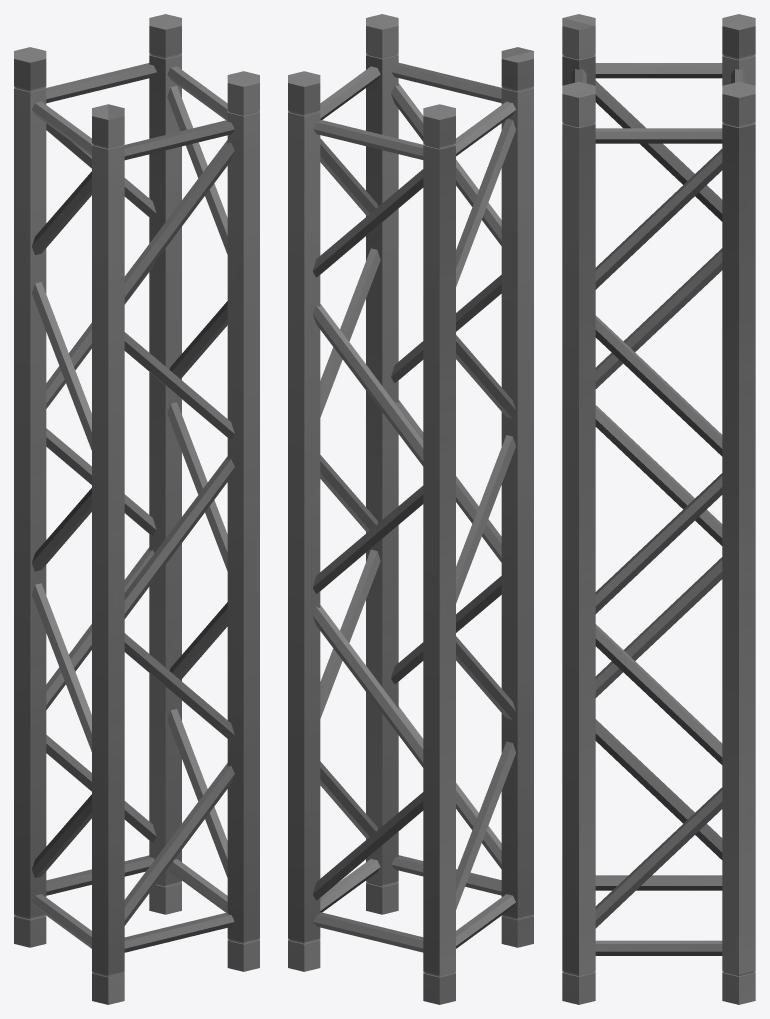
Rendered from Andamio.fbx.
3 views of the same model, side by side, from view 1: azimuth 30°, elevation 25°; view 2: azimuth 150°, elevation 25°; view 3: azimuth 270°, elevation 25° (orthographic). The views are drawn at different scales.
Visible parts, largest first — view 1: Andamio.001; view 2: Andamio.001; view 3: Andamio.001.
Part boxes in pixels (x1,y1,x2,y2): Andamio.001: [14, 14, 259, 1004]; Andamio.001: [288, 14, 533, 1004]; Andamio.001: [562, 14, 755, 1004].
Bounding box in the file's own units: 1.64 × 8.28 × 1.6.
Materials: 1 (1 with a texture image).
